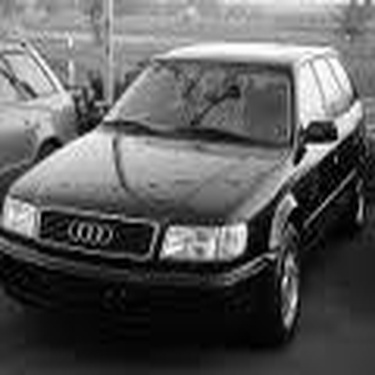car: (3, 42, 372, 350), (3, 38, 79, 205)
